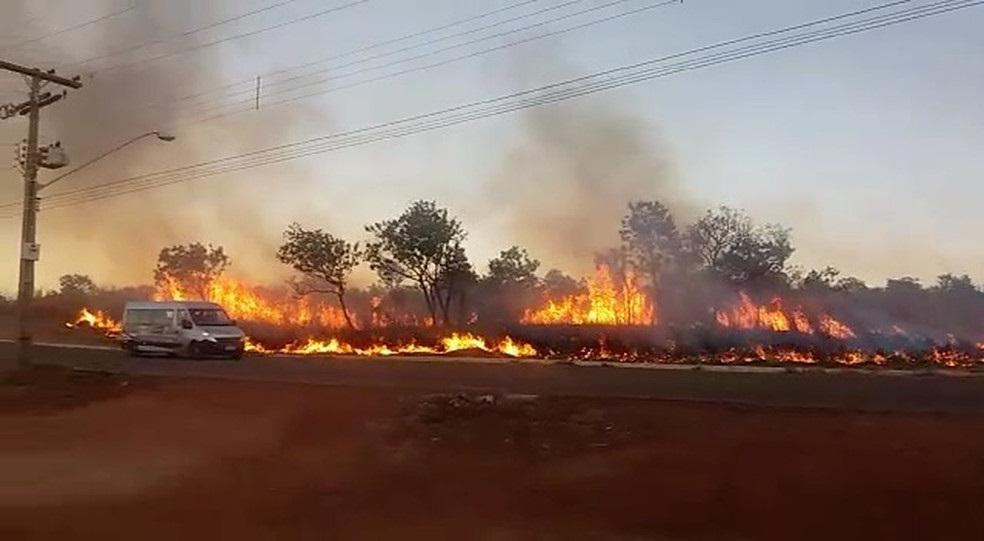Fire: (244, 337, 977, 365), (158, 273, 416, 322), (522, 266, 666, 327), (717, 281, 854, 332), (72, 310, 119, 338)
